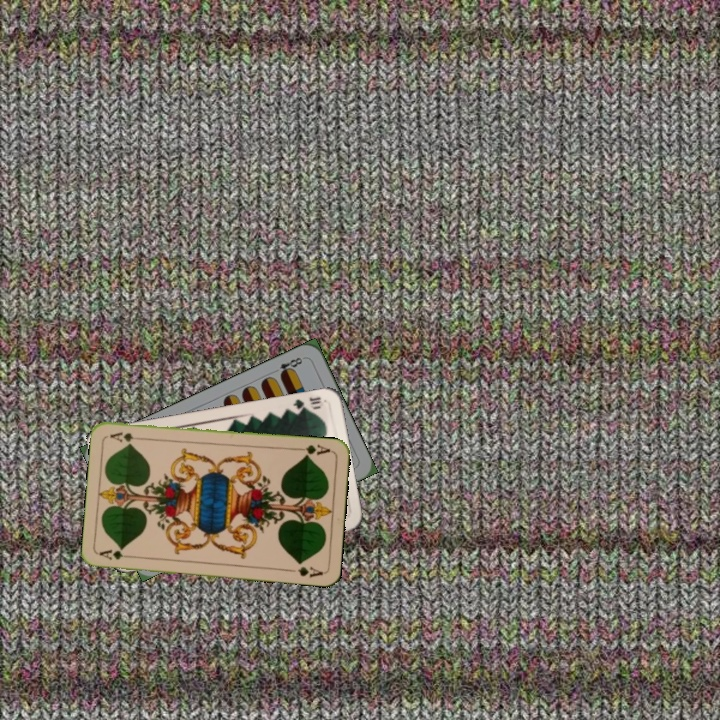E8: (269, 353, 307, 379)
G10: (289, 393, 324, 414)
GA: (293, 440, 333, 459), (96, 545, 136, 562)
